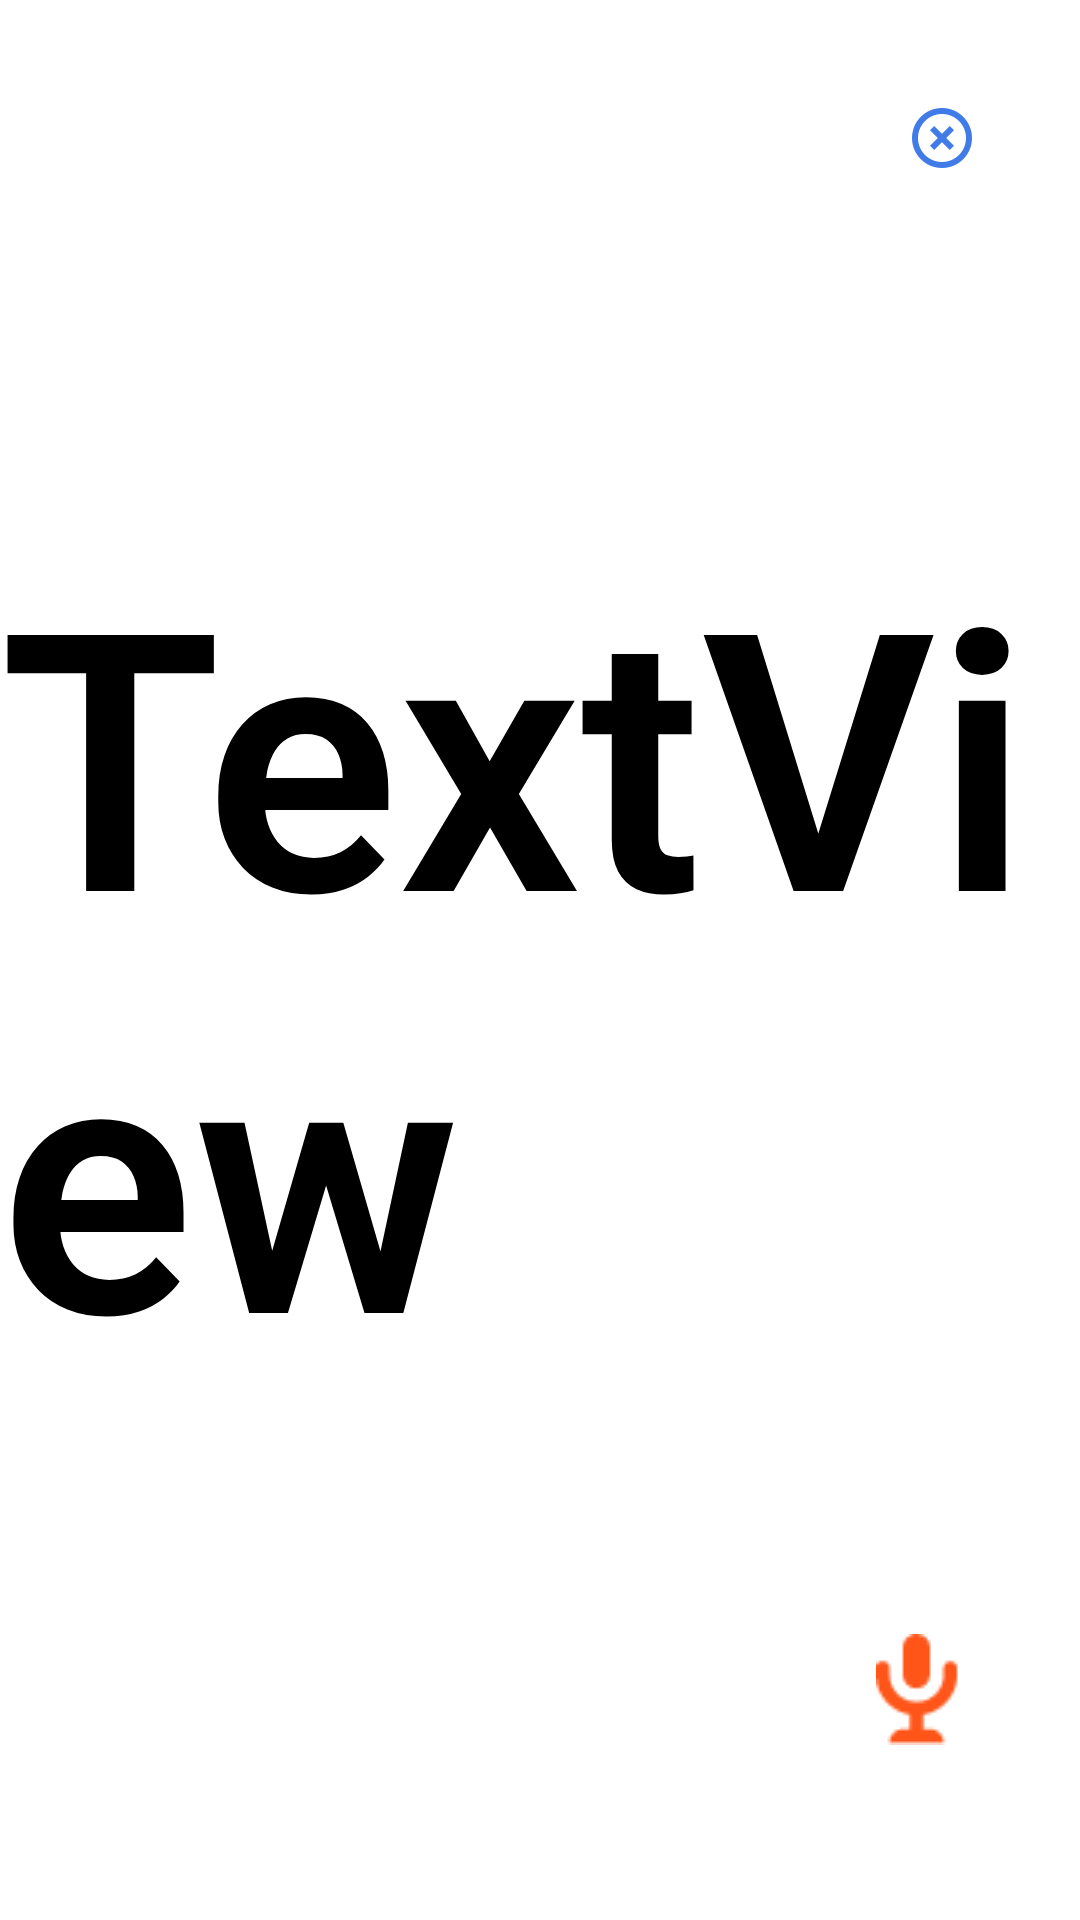

Screen size 1080 x 1920. Icon name, then its center in pixels as [x,y]:
highlight off: [942,138]
microphone: [917,1689]
